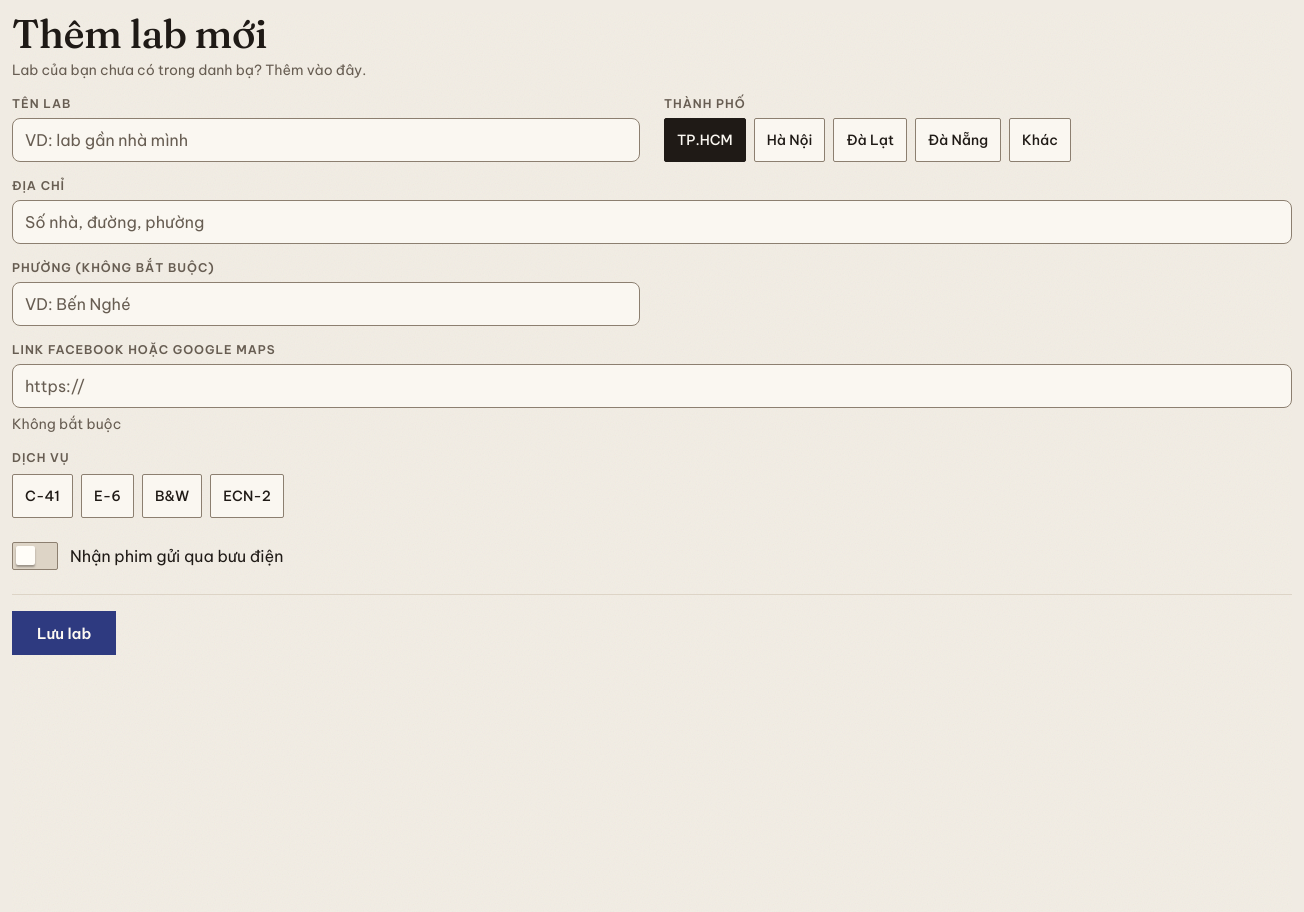
Test case: LabAddForm › shows a human-voice error for an invalid link
Type "Lab gần nhà" into the field labelled "Tên lab" at {"x": 326, "y": 140}, box [12,118,640,162]
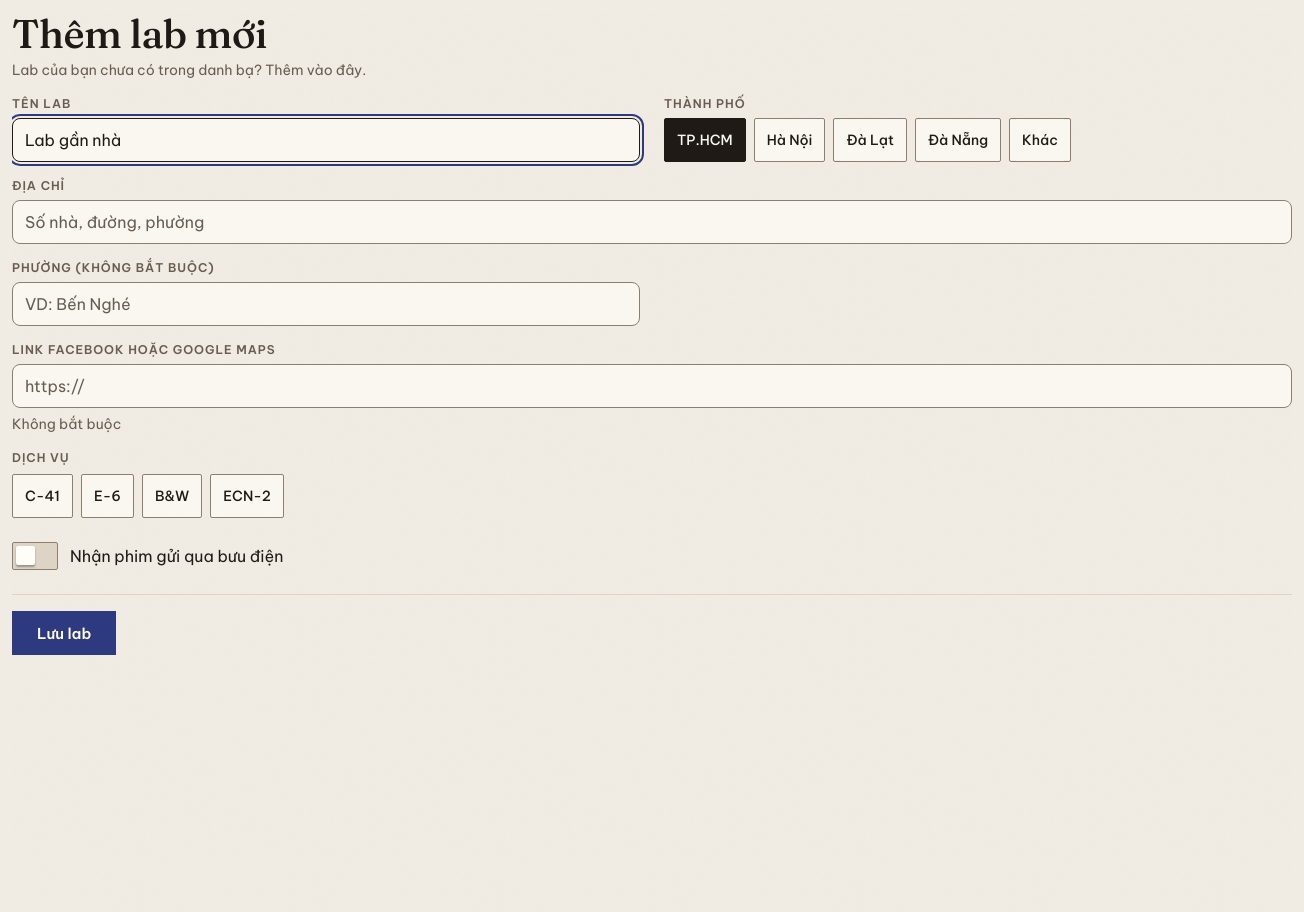
Type "not-a-link" into the field labelled "Link Facebook hoặc Google Maps" at {"x": 652, "y": 386}, box [12,364,1292,408]
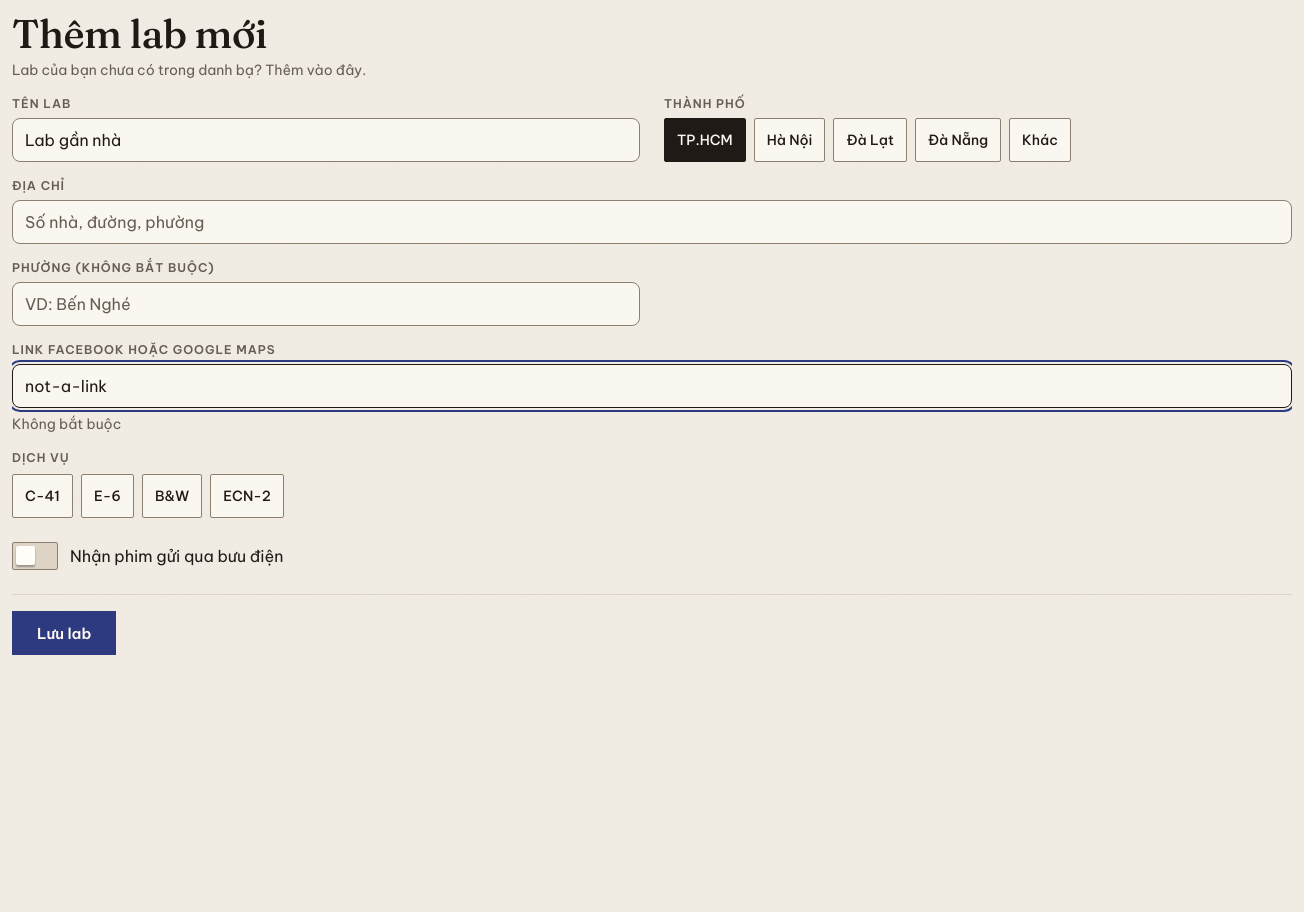
Click the button "Lưu lab" at {"x": 64, "y": 633}, box [12,611,116,655]
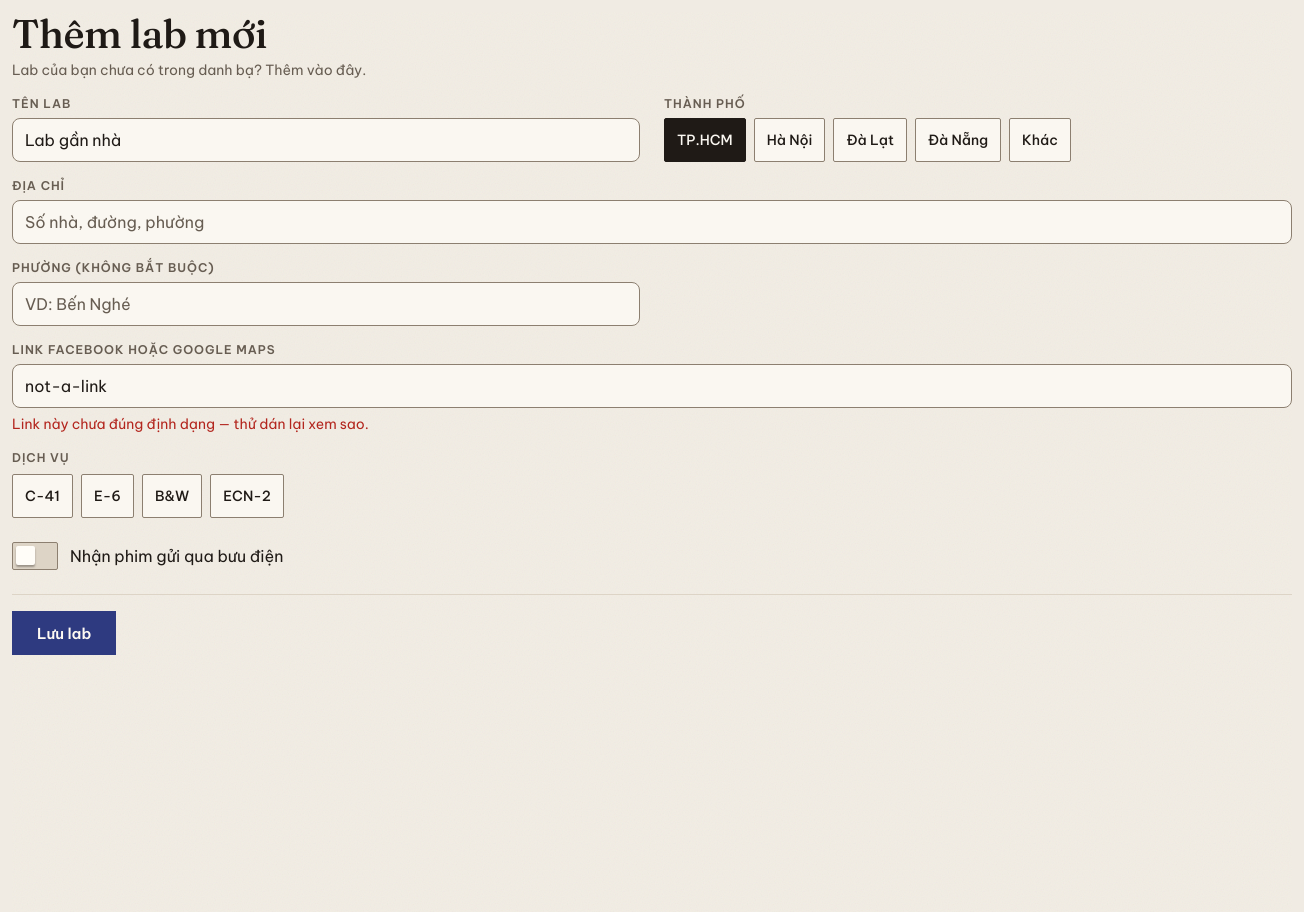
Expected: the text "Link này chưa đúng định dạng — thử dán lại xem sao." is shown, [12,415,369,433]
